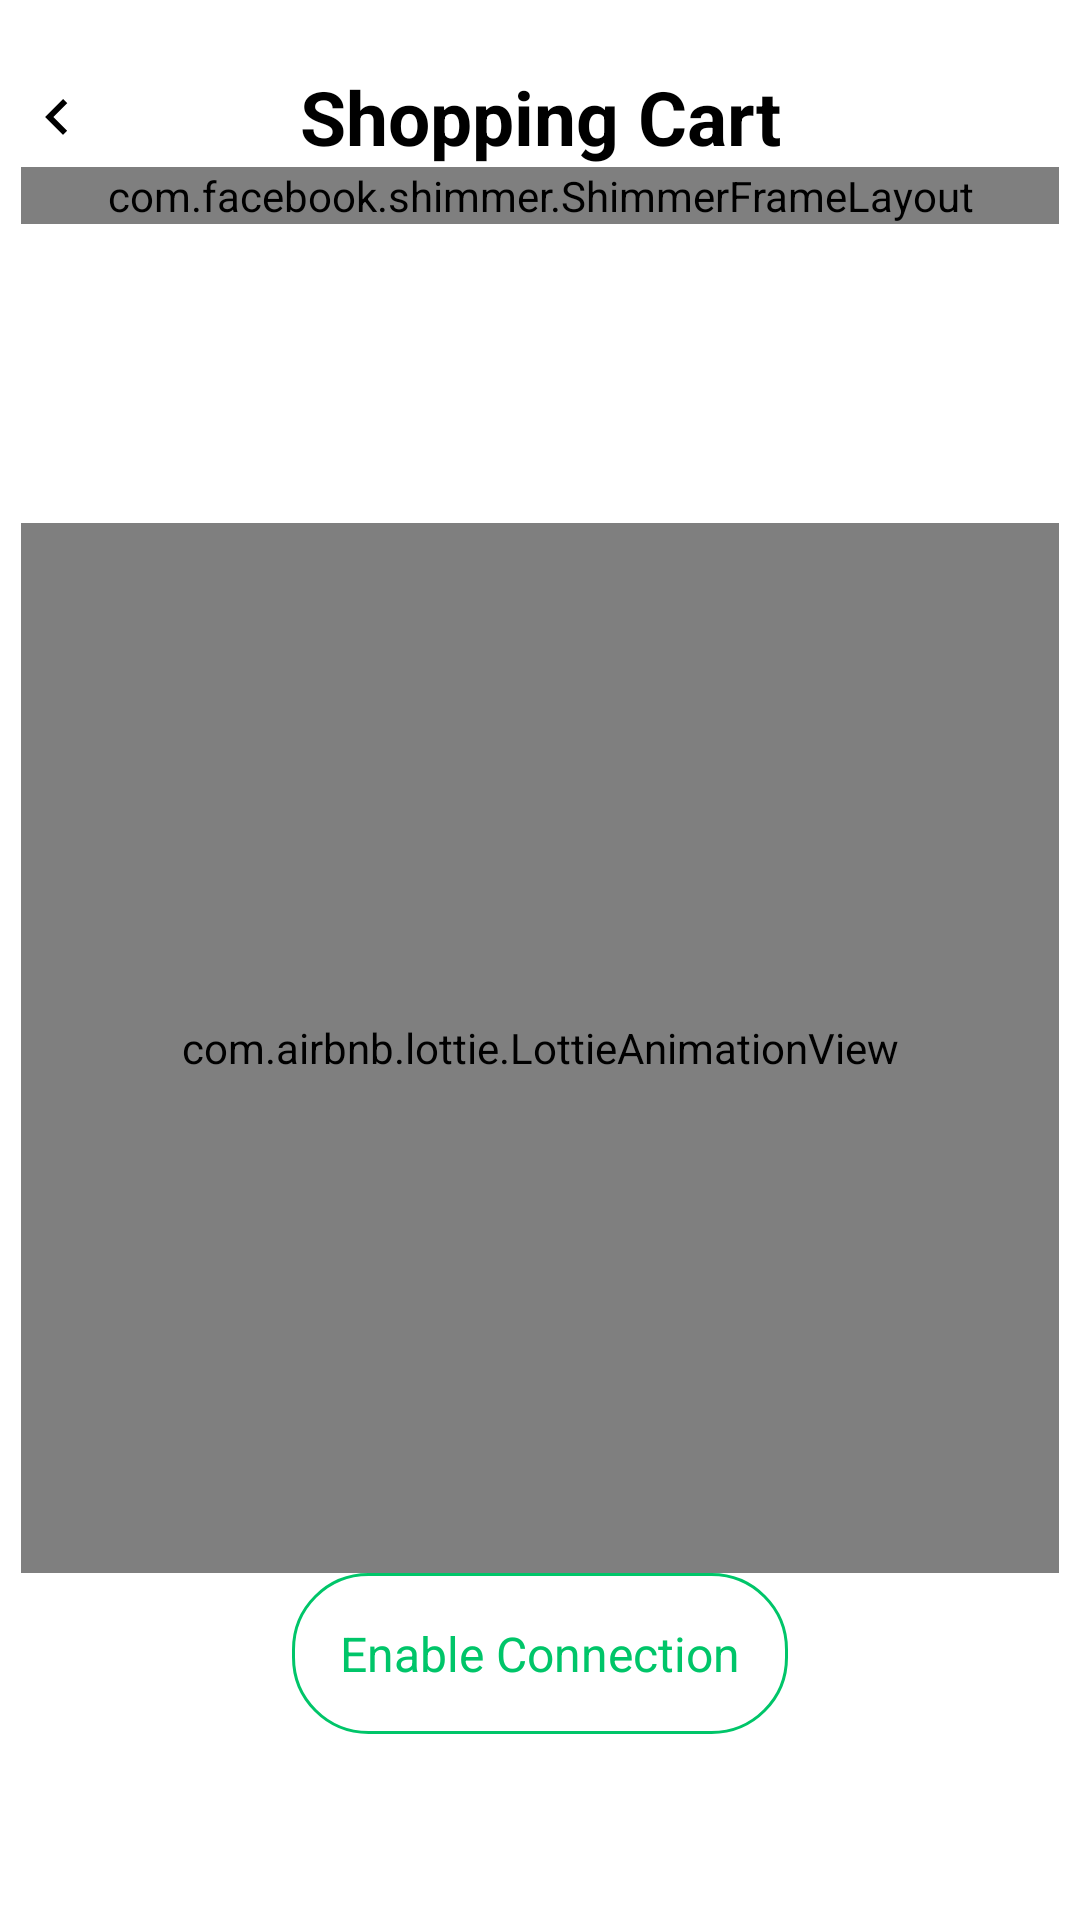

Icon bounding boxes for this 1080w x 1920h phone screenshot, format (x1, y1, x2, y2):
Go back: (45, 99, 67, 135)
